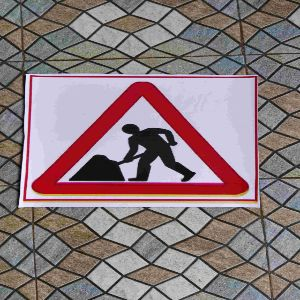men at work: (22, 73, 260, 206)
